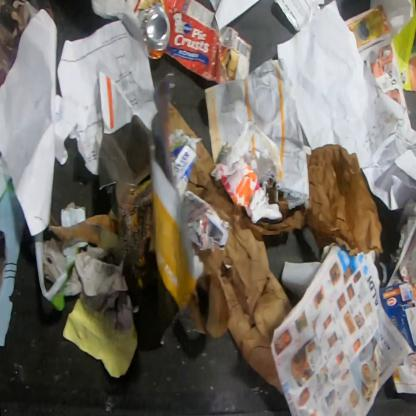cardboard: (186, 141, 306, 396), (126, 0, 253, 84), (0, 150, 27, 347), (379, 262, 415, 353), (169, 129, 203, 199), (169, 103, 198, 138)
metal: (142, 3, 172, 61)
rigid_plastic: (151, 70, 177, 186)
